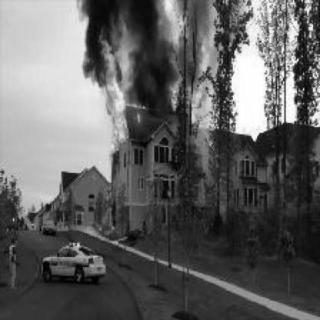Fire: (96, 39, 132, 150), (176, 37, 216, 129)
Smoke: (131, 0, 175, 116), (174, 0, 216, 60), (82, 0, 128, 42)
